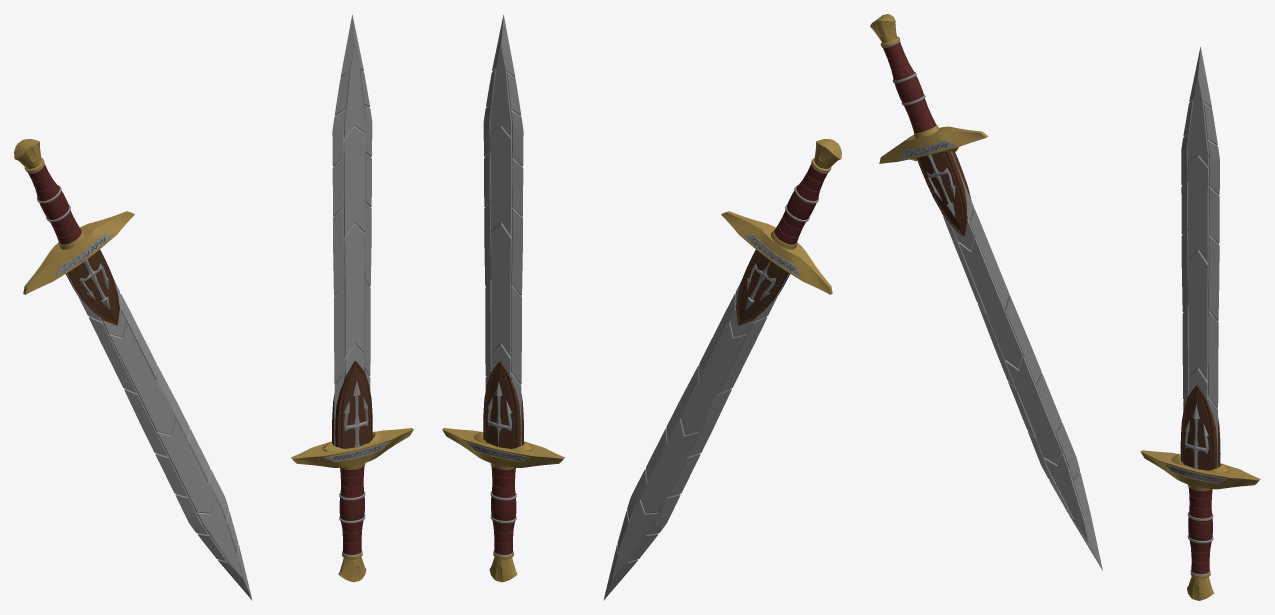
Rendered from PJS.glb.
3 views of the same model, side by side, from view 1: azimuth 30°, elevation 25°; view 2: azimuth 150°, elevation 25°; view 3: azimuth 330°, elevation 25° (orthographic). The views are drawn at different scales.
Parts seen in each view (by area): view 1: Blade001_08 - Default_0, Blade002_08 - Default_0, Object001_07 - Default_0, Hilt002_01 - Default_0, Object002_07 - Default_0, Hilt001_01 - Default_0, Riptide001_02 - Default_0, Riptide002_02 - Default_0, End002_01 - Default_0, End001_01 - Default_0, Trident001_03 - Default_0; view 2: Blade001_08 - Default_0, Blade002_08 - Default_0, Object001_07 - Default_0, Hilt002_01 - Default_0, Object002_07 - Default_0, Hilt001_01 - Default_0, Riptide001_02 - Default_0, Riptide002_02 - Default_0, End002_01 - Default_0, End001_01 - Default_0; view 3: Blade001_08 - Default_0, Blade002_08 - Default_0, Object001_07 - Default_0, Object002_07 - Default_0, Riptide002_02 - Default_0, Hilt001_01 - Default_0, Riptide001_02 - Default_0, Hilt002_01 - Default_0, End002_01 - Default_0, End001_01 - Default_0, Trident001_03 - Default_0.
Boxes of the visible parts, x1,y1,x2,y2 form: Blade001_08 - Default_0: (332,15,372,445); Blade002_08 - Default_0: (66,273,252,600); Object001_07 - Default_0: (332,361,372,448); Hilt002_01 - Default_0: (23,211,134,294); Object002_07 - Default_0: (66,249,119,325); Hilt001_01 - Default_0: (291,428,413,467); Riptide001_02 - Default_0: (339,466,364,554); Riptide002_02 - Default_0: (28,164,81,244); End002_01 - Default_0: (14,139,44,172); End001_01 - Default_0: (338,552,366,582); Trident001_03 - Default_0: (343,381,368,447); Blade001_08 - Default_0: (483,15,523,445); Blade002_08 - Default_0: (603,273,789,600); Object001_07 - Default_0: (483,361,523,448); Hilt002_01 - Default_0: (721,211,832,294); Object002_07 - Default_0: (736,249,789,325); Hilt001_01 - Default_0: (442,428,564,467); Riptide001_02 - Default_0: (491,466,516,554); Riptide002_02 - Default_0: (774,164,827,244); End002_01 - Default_0: (811,139,841,172); End001_01 - Default_0: (489,552,517,582); Blade001_08 - Default_0: (1181,47,1219,467); Blade002_08 - Default_0: (941,151,1102,570); Object001_07 - Default_0: (1180,384,1220,470); Object002_07 - Default_0: (916,151,971,236); Riptide002_02 - Default_0: (883,42,936,133); Hilt001_01 - Default_0: (1140,450,1260,489); Riptide001_02 - Default_0: (1188,487,1212,574); Hilt002_01 - Default_0: (879,126,987,163); End002_01 - Default_0: (870,14,899,46); End001_01 - Default_0: (1187,572,1213,600); Trident001_03 - Default_0: (1185,404,1208,469).
Size of the model in its own units: 96.09 by 130 by 6.51.
